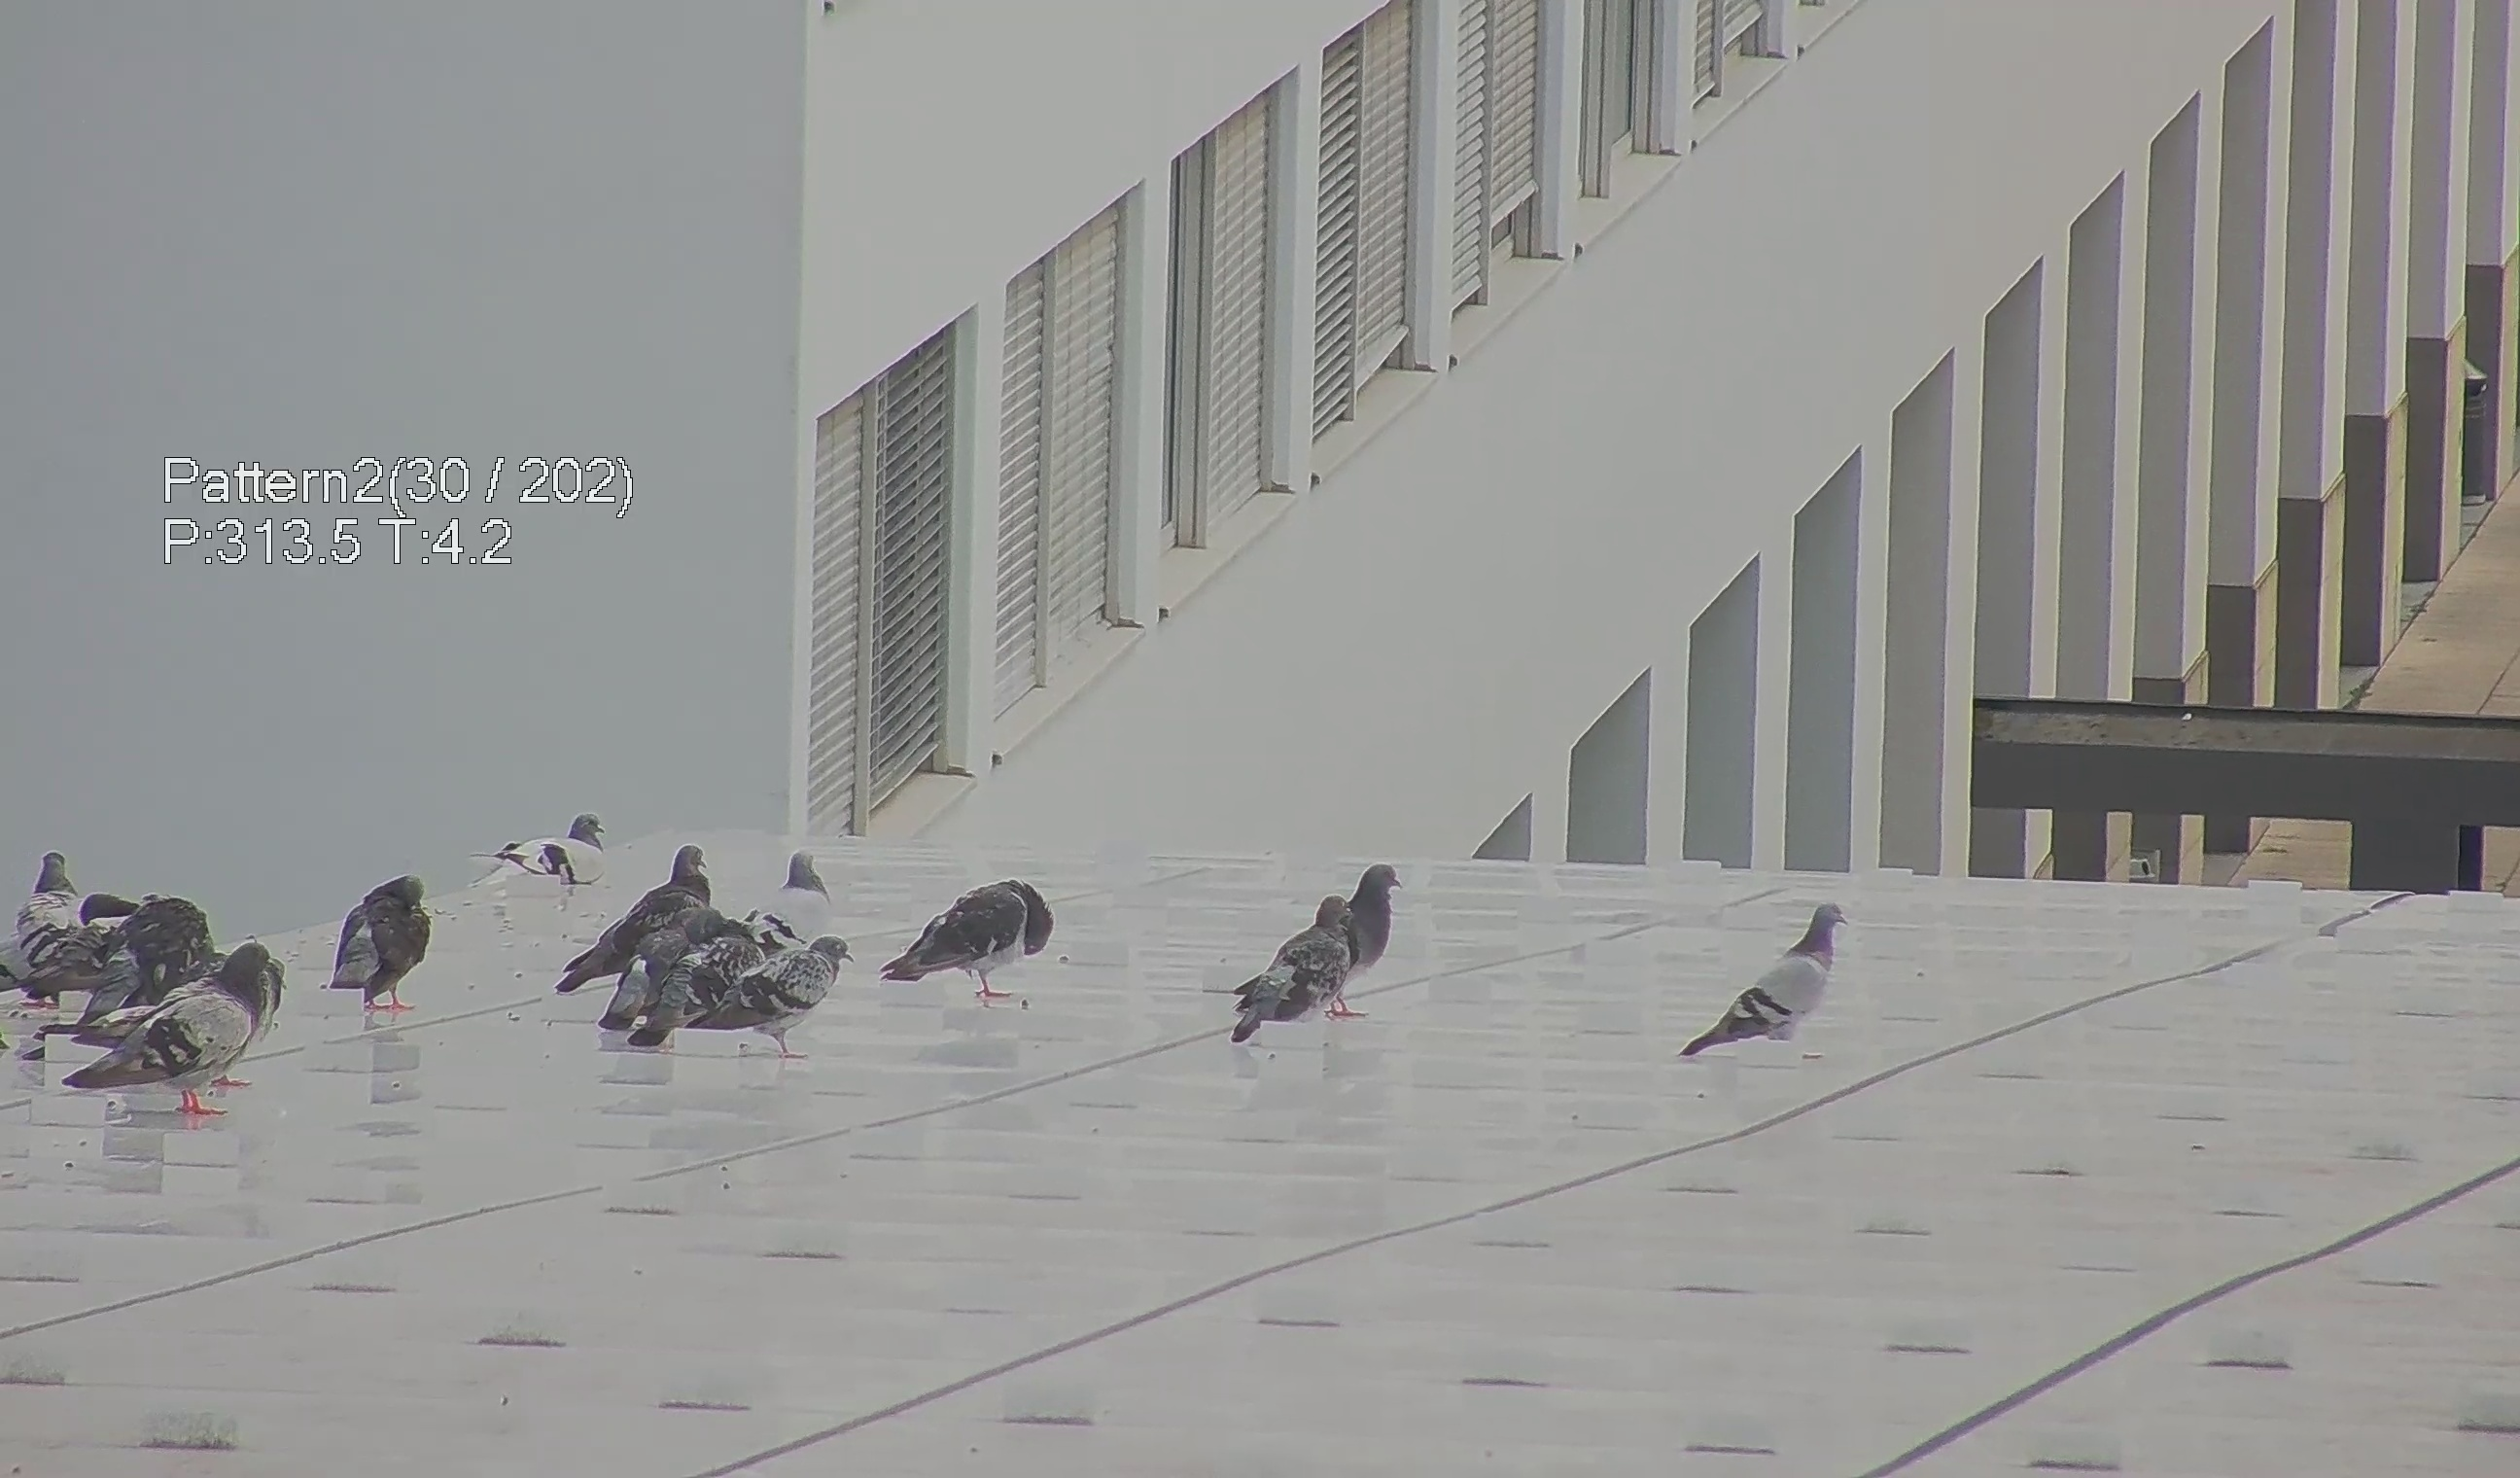Pigeon: (47, 933, 283, 1119), (644, 899, 851, 1063), (1683, 899, 1878, 1070), (554, 850, 739, 1024), (60, 889, 220, 1056), (1217, 880, 1359, 1056), (878, 871, 1053, 1010), (608, 904, 751, 1061), (318, 867, 433, 1019), (461, 801, 612, 903), (18, 841, 95, 991), (1340, 860, 1405, 977), (763, 846, 841, 933)
